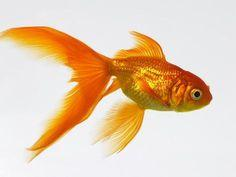goldfish: (67, 41, 221, 130)
